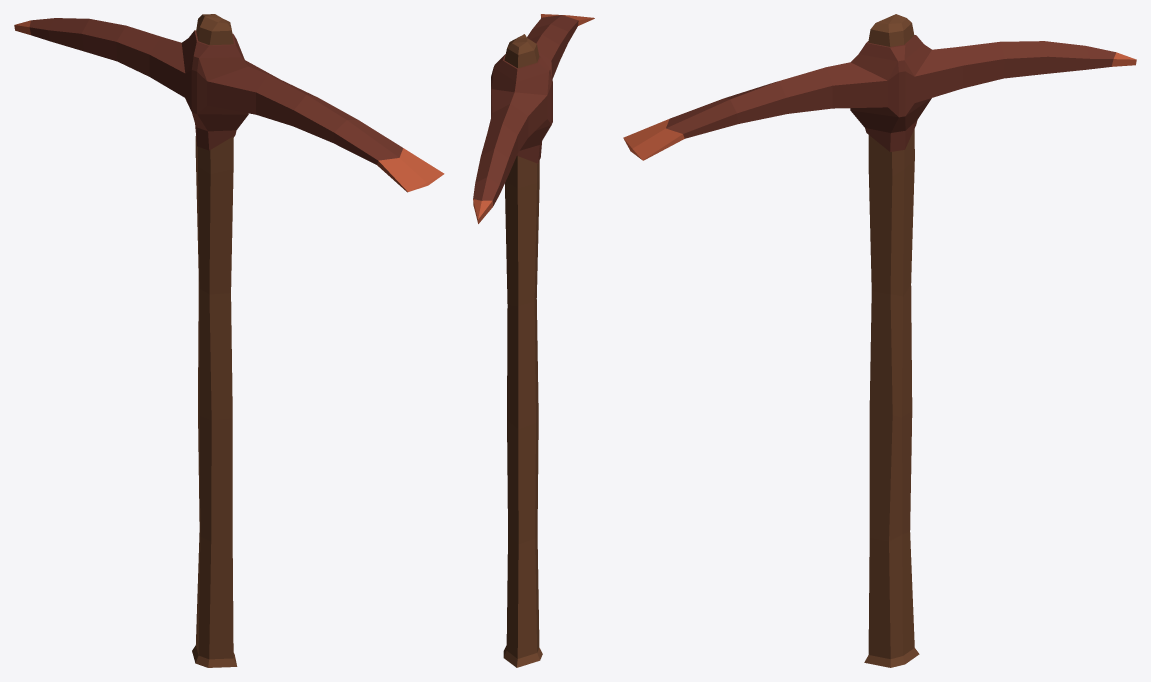
The model's file is pickaxe_copper.glb.
3 views of the same model, side by side, from view 1: azimuth 30°, elevation 25°; view 2: azimuth 150°, elevation 25°; view 3: azimuth 270°, elevation 25° (orthographic). The views are drawn at different scales.
Parts seen in each view (by area): view 1: PickAxeV12; view 2: PickAxeV12; view 3: PickAxeV12.
Part boxes in pixels (x1,y1,x2,y2): PickAxeV12: (14, 14, 444, 667); PickAxeV12: (473, 14, 594, 667); PickAxeV12: (623, 14, 1136, 667).
Size of the model in its own units: 0.2794 by 0.9399 by 0.683.
Materials: 3 (3 with a texture image).
